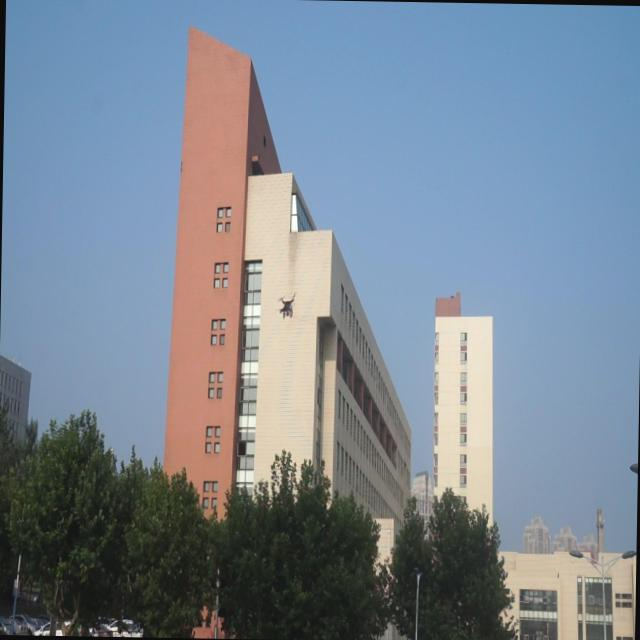drone: (274, 290, 298, 321)
